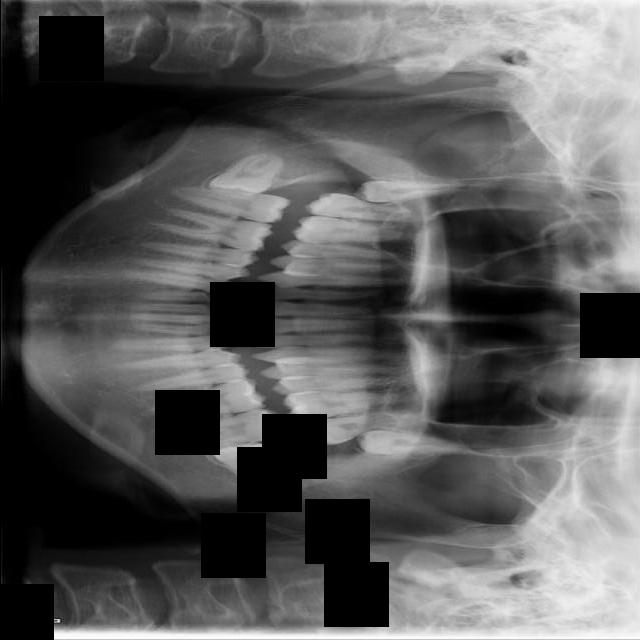3M ESPE Implant: (352, 181, 472, 205)
73: (20, 624, 25, 630)
BioHorizons Implant: (298, 403, 436, 450)
BioLife Implant: (357, 430, 476, 455)
Biomet 3i Implant: (205, 429, 312, 498)
Blue Sky Bio Implant: (166, 405, 287, 457)
Caries: (303, 190, 440, 228)
Implant: (171, 173, 289, 228)
Keystone Dental Implant: (205, 142, 291, 215)
